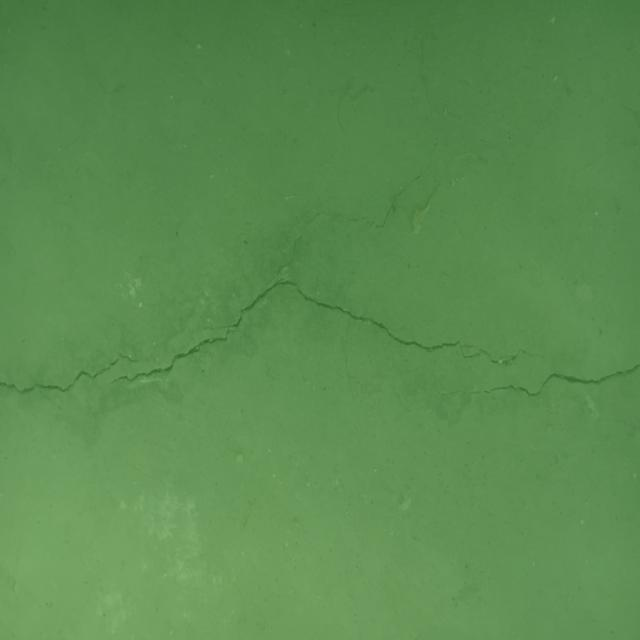crack: (106, 234, 544, 386), (306, 164, 432, 228), (440, 363, 640, 398), (0, 352, 150, 394), (418, 37, 433, 117)
